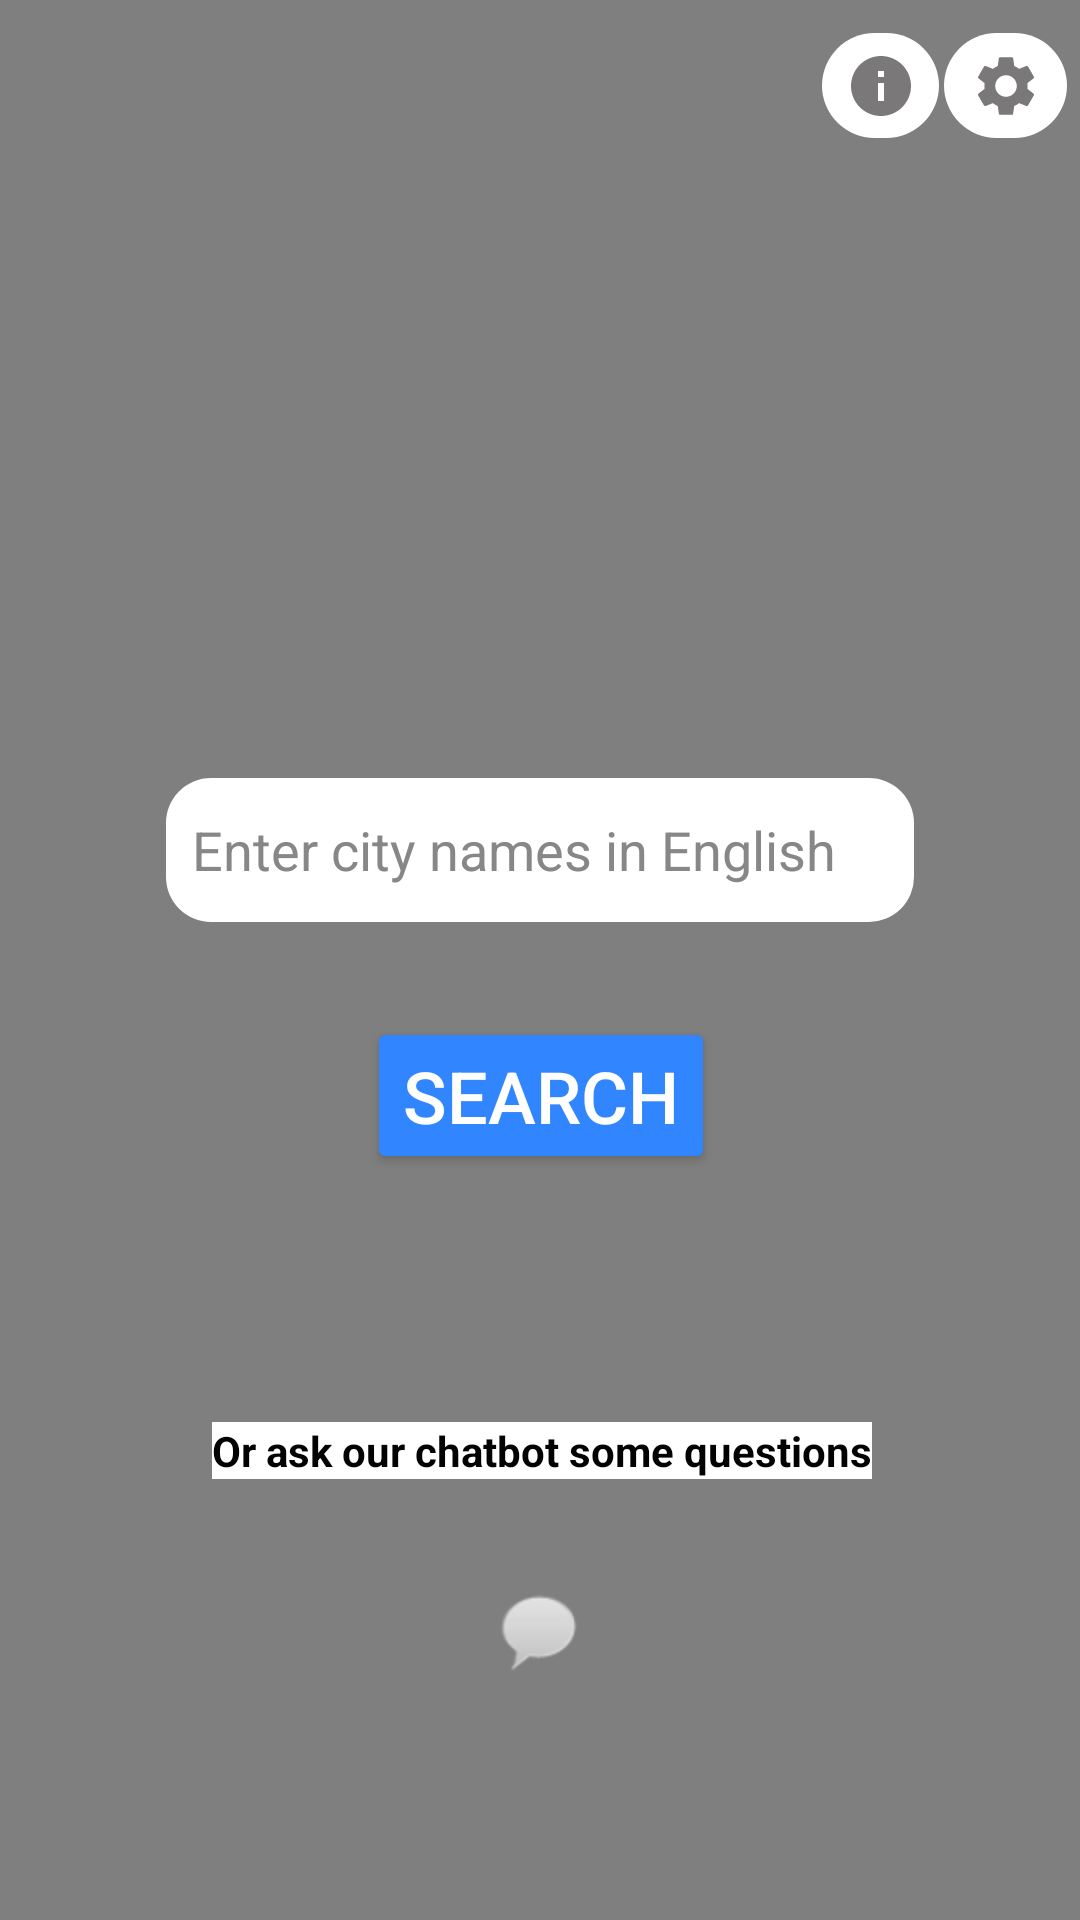

Icons on this 1080×1920 Android screen, each with its box as (x1, y1, x2, y2):
info: (822, 33, 939, 138)
settings: (944, 33, 1067, 138)
sym action chat: (502, 1596, 576, 1669)
